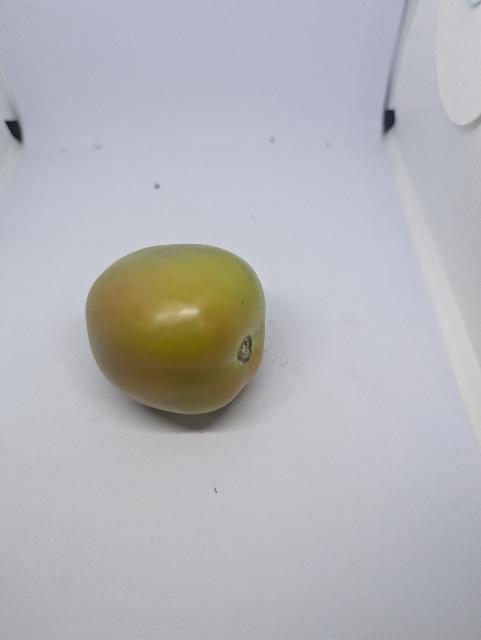breaker: (83, 239, 273, 421)
